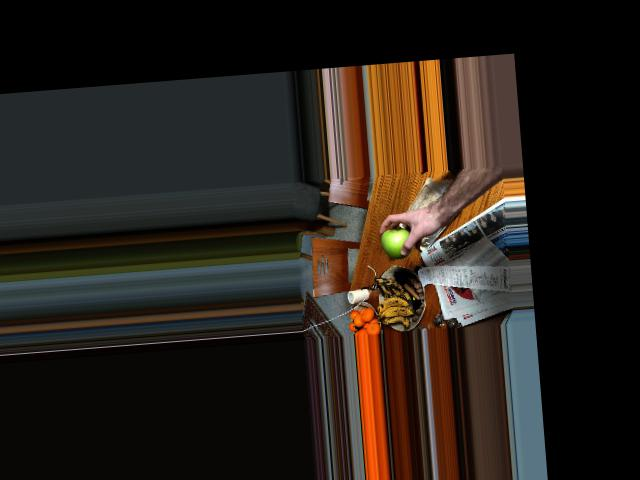apple: (378, 226, 417, 258)
